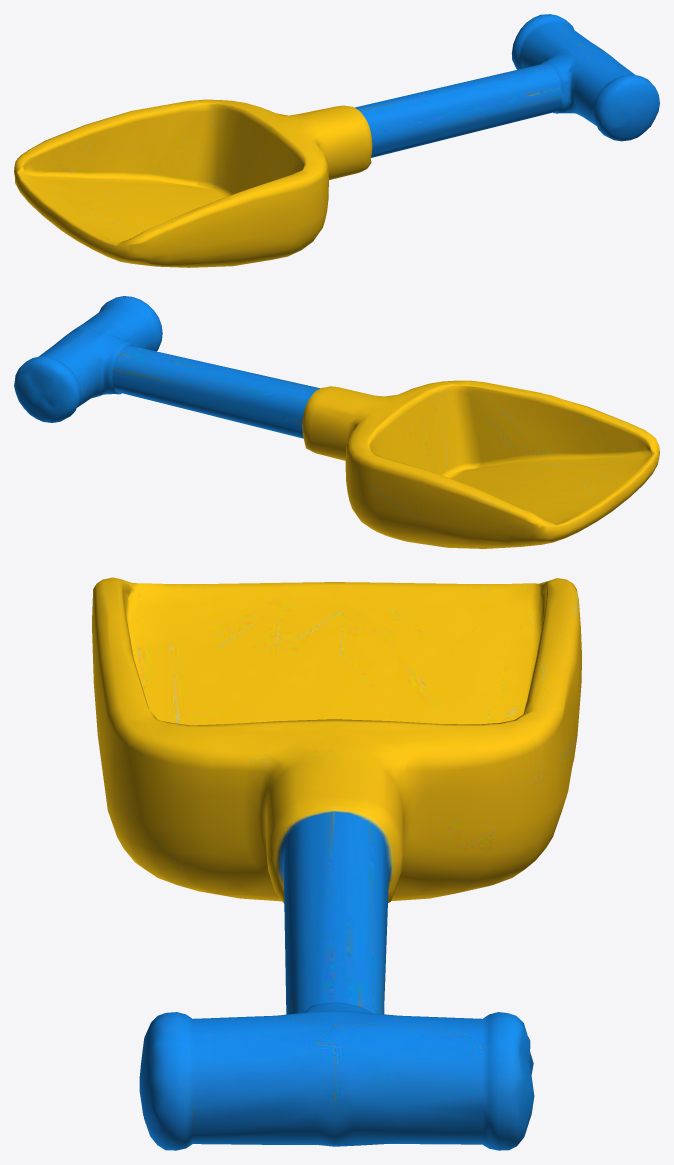
The model's file is spade.glb.
The picture shows the model from 3 angles, top to bottom: view 1: azimuth 30°, elevation 25°; view 2: azimuth 150°, elevation 25°; view 3: azimuth 270°, elevation 25°; orthographic projection. The views are drawn at different scales.
Parts seen in each view (by area): view 1: Mesh_0; view 2: Mesh_0; view 3: Mesh_0.
Part boxes in pixels (box(x1,y1,x2,y2)): Mesh_0: box(14, 14, 659, 267); Mesh_0: box(14, 296, 659, 548); Mesh_0: box(92, 577, 581, 1150).
Size of the model in its own units: 1 by 0.1714 by 0.3792.
Materials: 1 (1 with a texture image).
